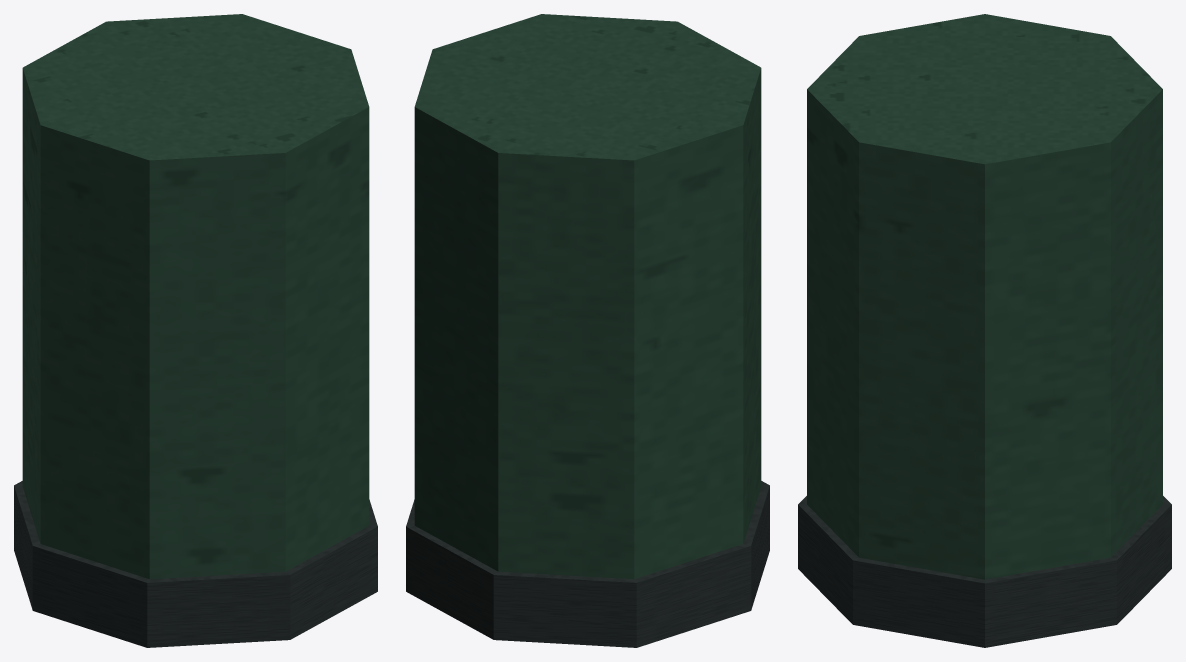
File: RimJoint.fbx
3 views of the same model, side by side, from view 1: azimuth 30°, elevation 25°; view 2: azimuth 150°, elevation 25°; view 3: azimuth 270°, elevation 25° (orthographic).
Visible parts, largest first — view 1: RimJoint; view 2: RimJoint; view 3: RimJoint.
Boxes of the visible parts, x1,y1,x2,y2 form: RimJoint: (14,14,377,647); RimJoint: (406,14,769,647); RimJoint: (798,14,1171,647).
Bounding box in the file's own units: 84 × 119 × 84.
